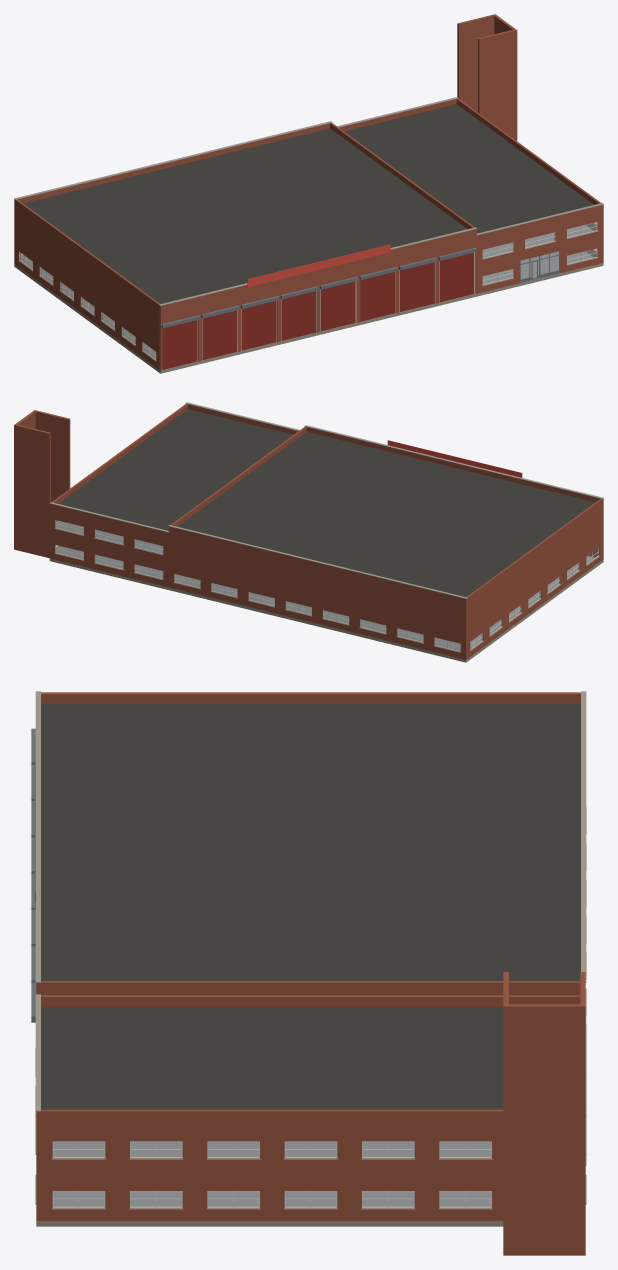
The model's file is fire_station.glb.
The picture shows the model from 3 angles, top to bottom: view 1: azimuth 30°, elevation 25°; view 2: azimuth 150°, elevation 25°; view 3: azimuth 270°, elevation 25°; orthographic projection. The views are drawn at different scales.
Parts seen in each view (by area): view 1: LOD0; view 2: LOD0; view 3: LOD0.
Part boxes in pixels (box(x1,y1,x2,y2)): LOD0: box(14, 14, 603, 373); LOD0: box(14, 402, 603, 662); LOD0: box(31, 691, 586, 1255).
Size of what is drawn, in the model's own units: 76.06 by 20.45 by 40.41.
